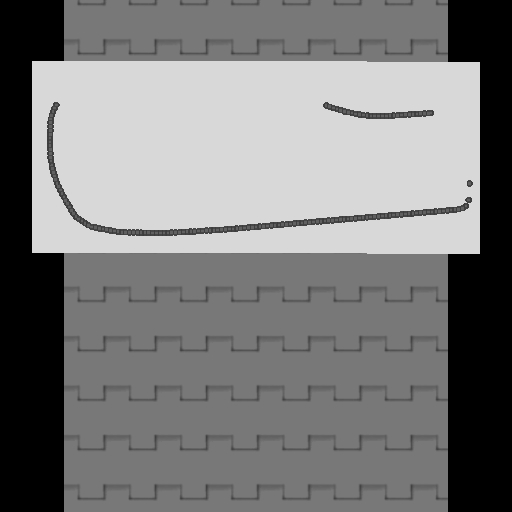Defect: (53, 87, 324, 116)
